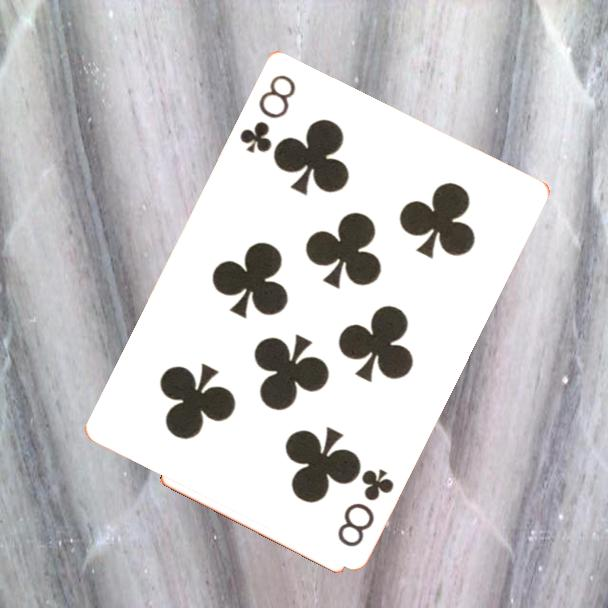c08: (333, 464, 397, 550), (236, 70, 299, 155)
